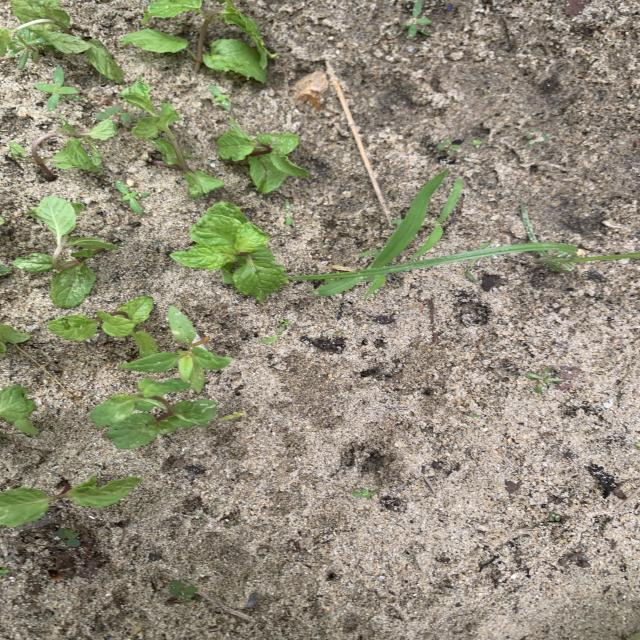crop: (170, 202, 287, 299), (16, 197, 116, 306), (143, 1, 274, 82), (119, 306, 231, 391), (122, 78, 204, 194), (11, 1, 122, 80), (91, 378, 215, 447), (0, 476, 140, 525), (10, 115, 115, 179), (218, 119, 307, 193), (48, 297, 156, 356), (1, 385, 37, 435), (0, 324, 30, 356), (138, 377, 183, 391)
weed: (372, 170, 460, 267), (36, 67, 76, 110), (8, 29, 44, 67), (400, 1, 431, 38), (116, 181, 147, 212), (527, 368, 559, 391), (259, 319, 288, 343), (95, 107, 133, 123), (169, 581, 198, 601), (364, 274, 386, 297), (210, 85, 231, 109), (57, 528, 79, 547), (437, 138, 459, 156), (353, 488, 379, 499), (0, 265, 11, 275), (548, 513, 560, 521), (0, 568, 10, 575)
